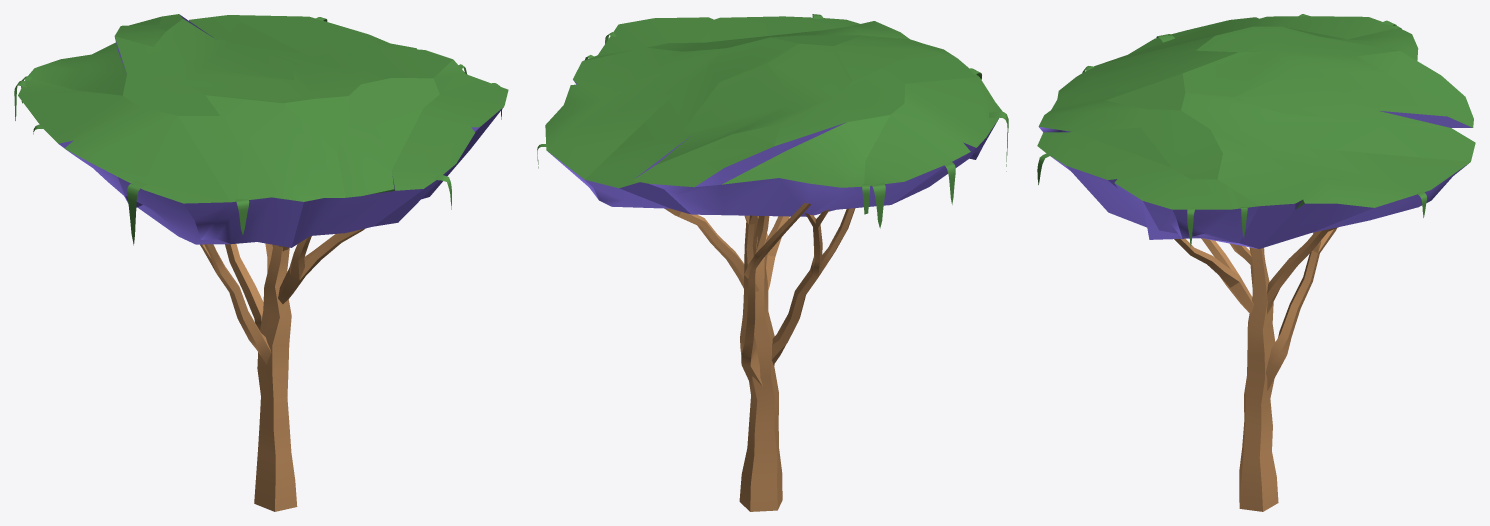
The model's file is tree_E_canopy_A_solo.fbx.
3 views of the same model, side by side, from view 1: azimuth 30°, elevation 25°; view 2: azimuth 150°, elevation 25°; view 3: azimuth 270°, elevation 25° (orthographic). The views are drawn at different scales.
Visible parts, largest first — view 1: tree_E_canopy_A, tree_E_canopy_A_trunk_A, tree_E_canopy_A_trunk_D, tree_E_canopy_A_trunk_G, tree_E_canopy_A_trunk_C; view 2: tree_E_canopy_A, tree_E_canopy_A_trunk_A, tree_E_canopy_A_trunk_C, tree_E_canopy_A_trunk_D, tree_E_canopy_A_trunk_E, tree_E_canopy_A_trunk_G; view 3: tree_E_canopy_A, tree_E_canopy_A_trunk_A, tree_E_canopy_A_trunk_C, tree_E_canopy_A_trunk_G, tree_E_canopy_A_trunk_E.
Boxes of the visible parts, x1,y1,x2,y2 form: tree_E_canopy_A: [18, 14, 508, 247]; tree_E_canopy_A_trunk_A: [254, 245, 297, 511]; tree_E_canopy_A_trunk_D: [200, 244, 271, 364]; tree_E_canopy_A_trunk_G: [278, 228, 365, 303]; tree_E_canopy_A_trunk_C: [225, 243, 263, 330]; tree_E_canopy_A: [545, 16, 1002, 216]; tree_E_canopy_A_trunk_A: [739, 216, 782, 511]; tree_E_canopy_A_trunk_C: [740, 203, 811, 386]; tree_E_canopy_A_trunk_D: [771, 208, 855, 364]; tree_E_canopy_A_trunk_E: [665, 208, 759, 292]; tree_E_canopy_A_trunk_G: [765, 216, 789, 290]; tree_E_canopy_A: [1037, 16, 1475, 248]; tree_E_canopy_A_trunk_A: [1239, 247, 1278, 511]; tree_E_canopy_A_trunk_C: [1265, 228, 1336, 390]; tree_E_canopy_A_trunk_G: [1174, 238, 1253, 313]; tree_E_canopy_A_trunk_E: [1267, 227, 1338, 314].
Bounding box in the file's own units: 611 × 624 × 597.
